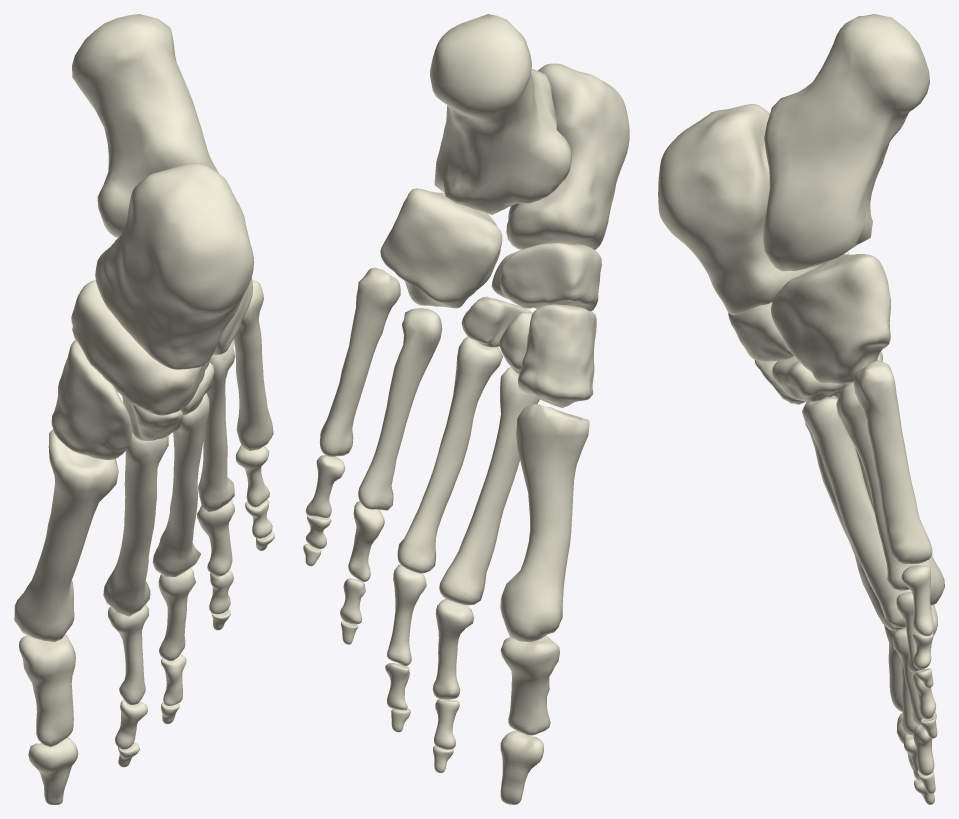
Rendered from female_footL-hi.obj.
The picture shows the model from 3 angles, left to right: view 1: azimuth 30°, elevation 25°; view 2: azimuth 150°, elevation 25°; view 3: azimuth 270°, elevation 25°; orthographic projection. The views are drawn at different scales.
Visible parts, largest first — view 1: Object__0; view 2: Object__0; view 3: Object__0.
Part boxes in pixels (x1,y1,x2,y2): Object__0: [14, 14, 274, 804]; Object__0: [303, 14, 629, 804]; Object__0: [658, 14, 944, 804].
Bounding box in the file's own units: 0.0817 × 0.2355 × 0.0773.
